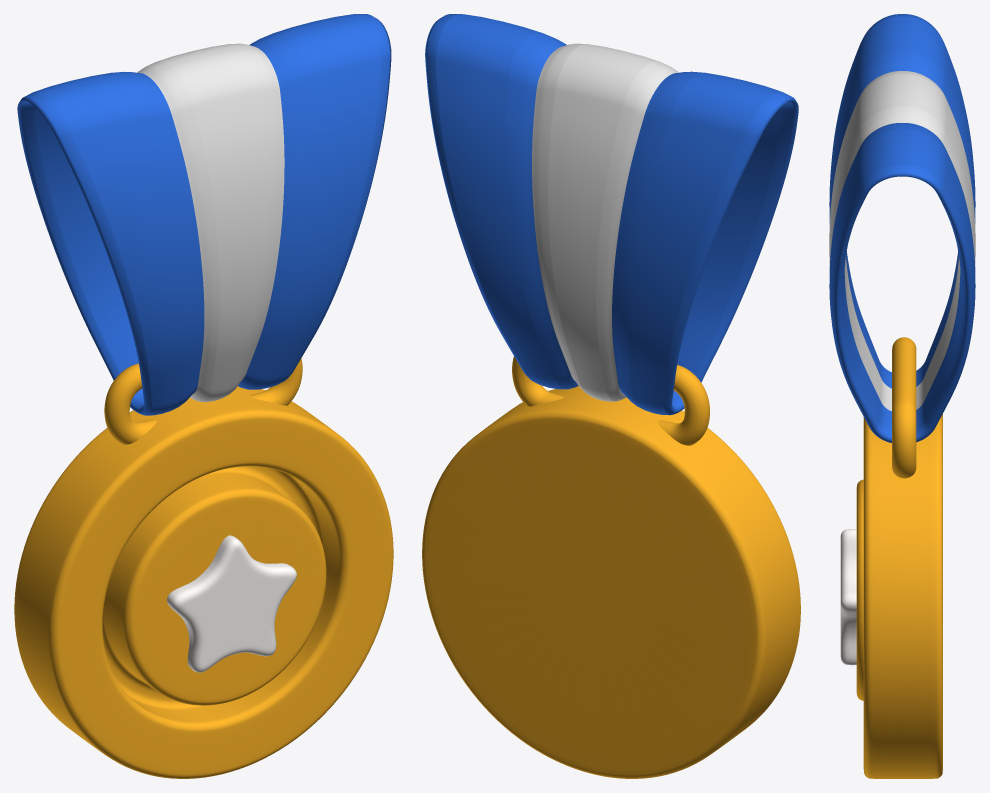
Rendered from star-medal-animated-3d-icon-233379618193.glb.
The picture shows the model from 3 angles, left to right: view 1: azimuth 30°, elevation 25°; view 2: azimuth 150°, elevation 25°; view 3: azimuth 270°, elevation 25°; orthographic projection. The views are drawn at different scales.
Visible parts, largest first — view 1: Rope, Medal, Star, Ring; view 2: Medal, Rope, Ring; view 3: Rope, Medal, Ring, Star.
Boxes of the visible parts, bbox=[...] form: Rope: bbox=[17, 14, 391, 415]; Medal: bbox=[14, 386, 393, 778]; Star: bbox=[167, 535, 296, 672]; Ring: bbox=[104, 358, 302, 444]; Medal: bbox=[422, 386, 800, 778]; Rope: bbox=[425, 14, 798, 415]; Ring: bbox=[512, 356, 709, 445]; Rope: bbox=[829, 14, 975, 442]; Medal: bbox=[856, 414, 942, 778]; Ring: bbox=[892, 337, 916, 478]; Star: bbox=[840, 529, 856, 665].
Bounding box in the file's own units: 1.2 × 2.34 × 0.4625.
